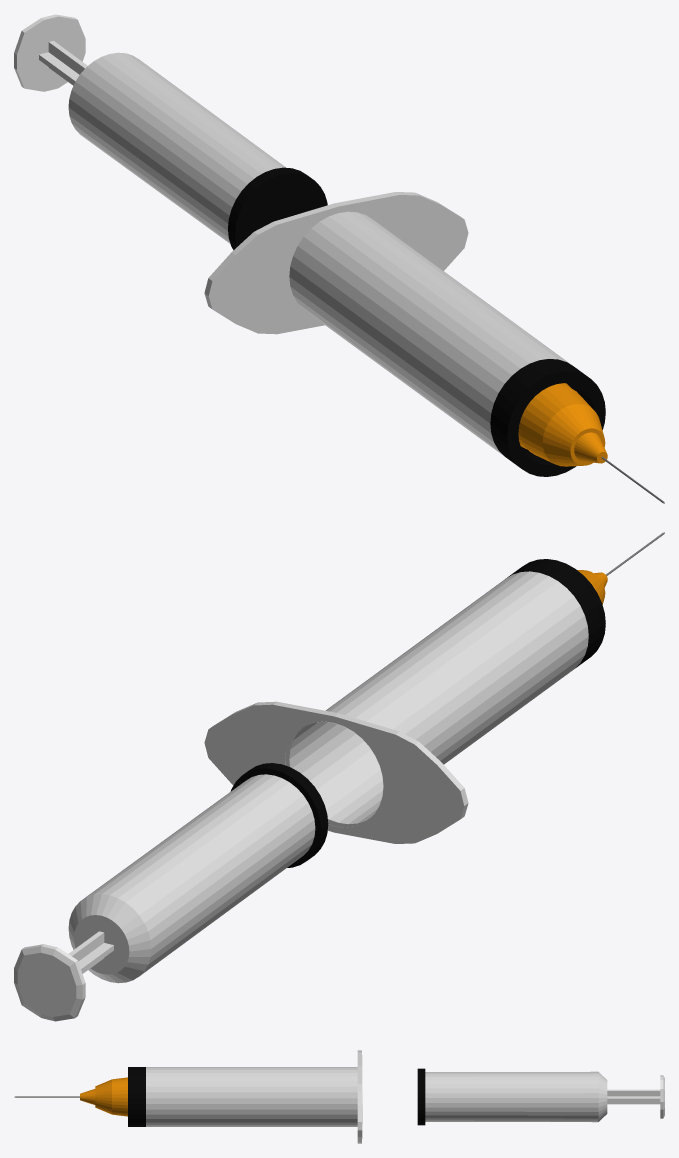
File: Syringe.fbx
The picture shows the model from 3 angles, top to bottom: view 1: azimuth 30°, elevation 25°; view 2: azimuth 150°, elevation 25°; view 3: azimuth 270°, elevation 25°; orthographic projection. The views are drawn at different scales.
Visible parts, largest first — view 1: Cylinder, Cube, Cylinder.001; view 2: Cylinder, Cube; view 3: Cylinder, Cube, Cylinder.001.
Boxes of the visible parts, <box> form: Cylinder: <box>204,192,605,476</box>; Cube: <box>14,14,327,250</box>; Cylinder.001: <box>520,386,664,503</box>; Cylinder: <box>204,559,605,843</box>; Cube: <box>14,763,328,1021</box>; Cylinder: <box>128,1050,362,1143</box>; Cube: <box>417,1068,664,1125</box>; Cylinder.001: <box>14,1077,127,1116</box>.
Size of the model in its own units: 88.14 by 37.67 by 363.
